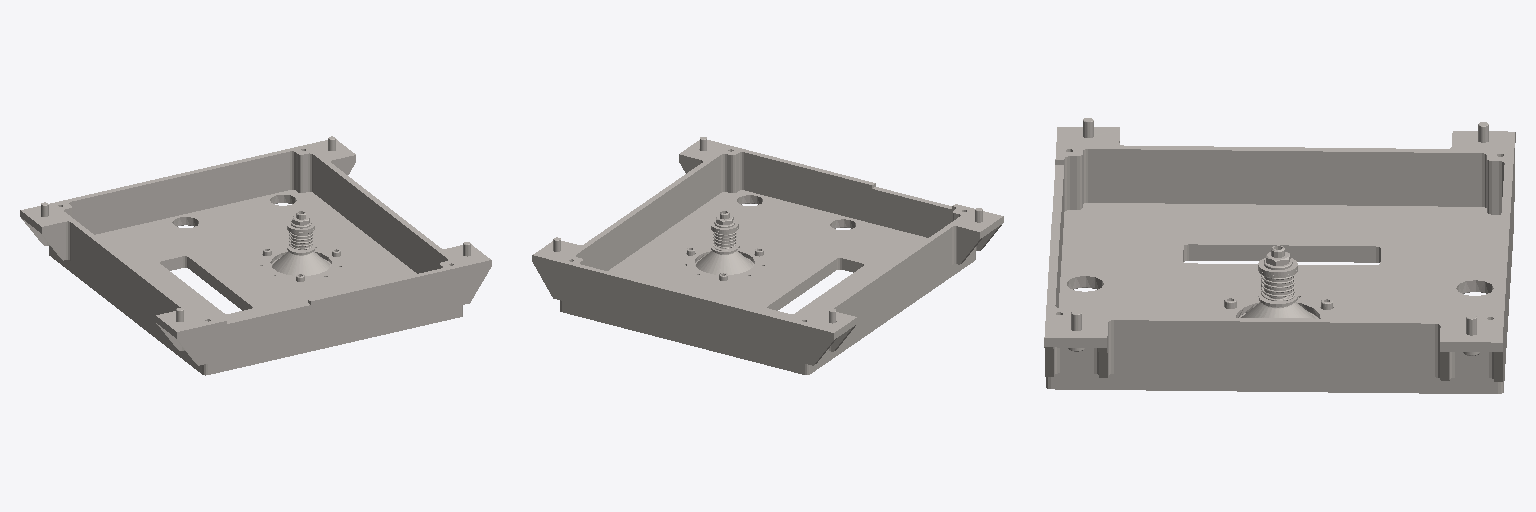
The robot description file, URDF, robot "ground":
<?xml version="1.0" encoding="utf-8"?>
<!-- This URDF was automatically created by SolidWorks to URDF Exporter! Originally created by Stephen Brawner (brawner@gmail.com) 
     Commit Version: 1.6.0-4-g7f85cfe  Build Version: 1.6.7995.38578
     For more information, please see http://wiki.ros.org/sw_urdf_exporter -->
<robot
  name="ground">
  <link
    name="base_link">
    <inertial>
      <origin
        xyz="-0.040201 0.0012273 0.0096292"
        rpy="0 0 0" />
      <mass
        value="0.76503" />
      <inertia
        ixx="0.00508"
        ixy="-8.7544E-06"
        ixz="-3.43E-06"
        iyy="0.0044319"
        iyz="-1.8262E-06"
        izz="0.0094591" />
    </inertial>
    <visual>
      <origin
        xyz="0 0 0"
        rpy="0 0 0" />
      <geometry>
        <mesh
          filename="package://ground/meshes/base_link.STL" />
      </geometry>
      <material
        name="">
        <color
          rgba="0.77647 0.75686 0.73725 1" />
      </material>
    </visual>
    <collision>
      <origin
        xyz="0 0 0"
        rpy="0 0 0" />
      <geometry>
        <mesh
          filename="package://ground/meshes/ground.STL" />
      </geometry>
    </collision>
  </link>
</robot>

--- Facts derived from the render (not from the file) ---
The picture shows the robot from 3 angles, left to right: view 1: azimuth 30°, elevation 25°; view 2: azimuth 150°, elevation 25°; view 3: azimuth 270°, elevation 25°; orthographic projection.
Model ground with 1 links and 0 joints (none), rooted at base_link, posed all joints at 0.
Visible links, largest first — view 1: base_link; view 2: base_link; view 3: base_link.
Boxes of the visible links, x1,y1,x2,y2 form: base_link: [20, 136, 491, 375]; base_link: [532, 137, 1003, 374]; base_link: [1044, 118, 1515, 393].
Bounding box of the posed robot: 0.2845 × 0.2621 × 0.0535 m (x, y, z).
1 mesh visuals loaded from 1 distinct referenced files (1 binary STL).
